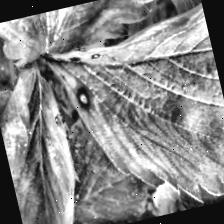Leaf Spot: (32, 0, 224, 224), (0, 63, 90, 224)
